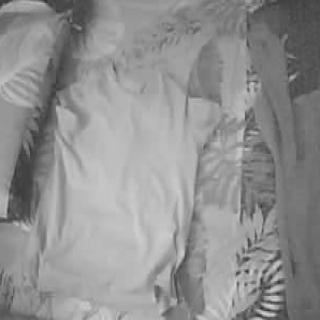Yellow Hoodie: (257, 16, 320, 319)
Yellow T-Shirt: (20, 59, 221, 309)
